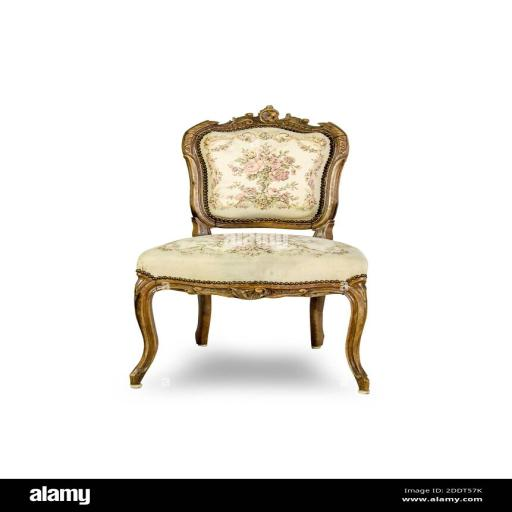chair: (111, 106, 383, 400)
